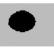correct: (6, 8, 35, 34)
